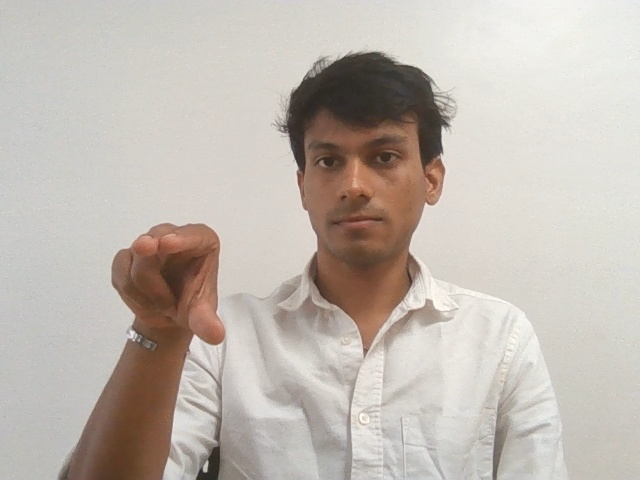No: (97, 213, 243, 348)
